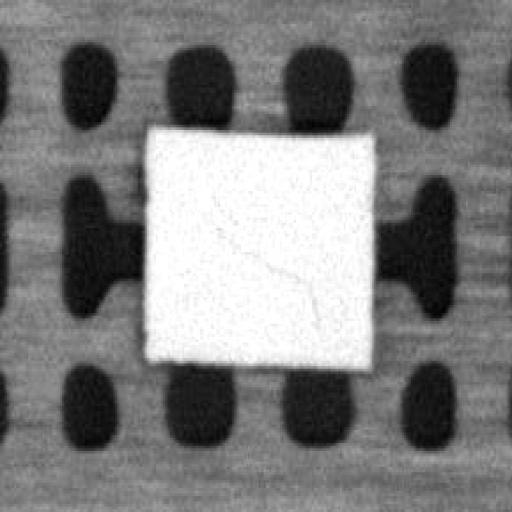DIE_CRACK: (222, 226, 320, 334)
